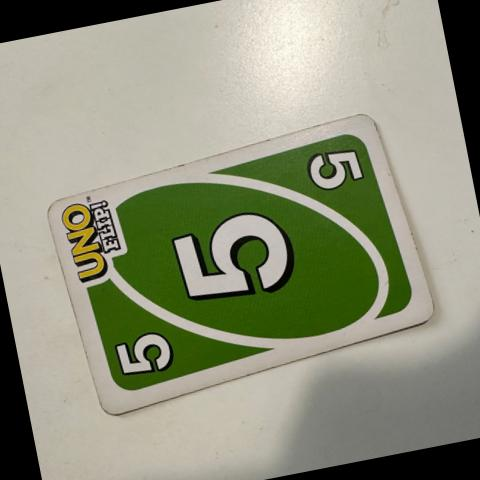lgreen-5: (94, 303, 196, 400)
